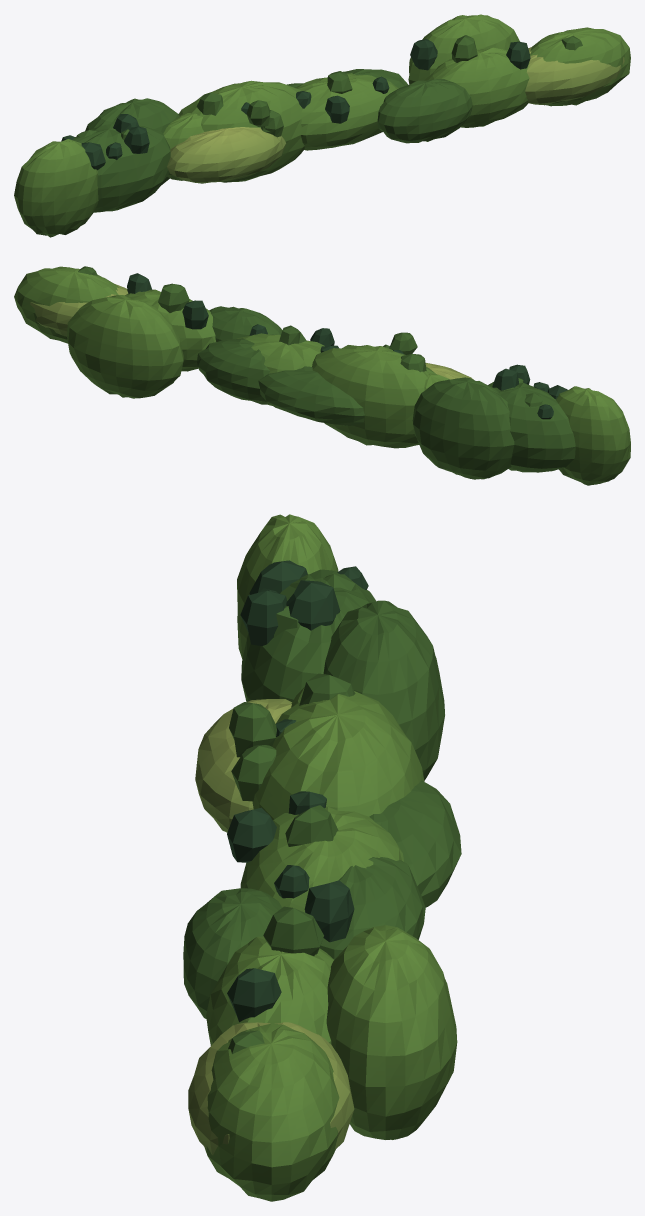
File: hills.glb
The picture shows the model from 3 angles, top to bottom: view 1: azimuth 30°, elevation 25°; view 2: azimuth 150°, elevation 25°; view 3: azimuth 270°, elevation 25°; orthographic projection. The views are drawn at different scales.
Parts seen in each view (by area): view 1: hills; view 2: hills; view 3: hills.
Boxes of the visible parts, bbox=[...] form: hills: bbox=[14, 14, 630, 237]; hills: bbox=[14, 266, 630, 485]; hills: bbox=[183, 514, 461, 1201].
Size of the model in its own units: 108 by 16.77 by 21.36.
